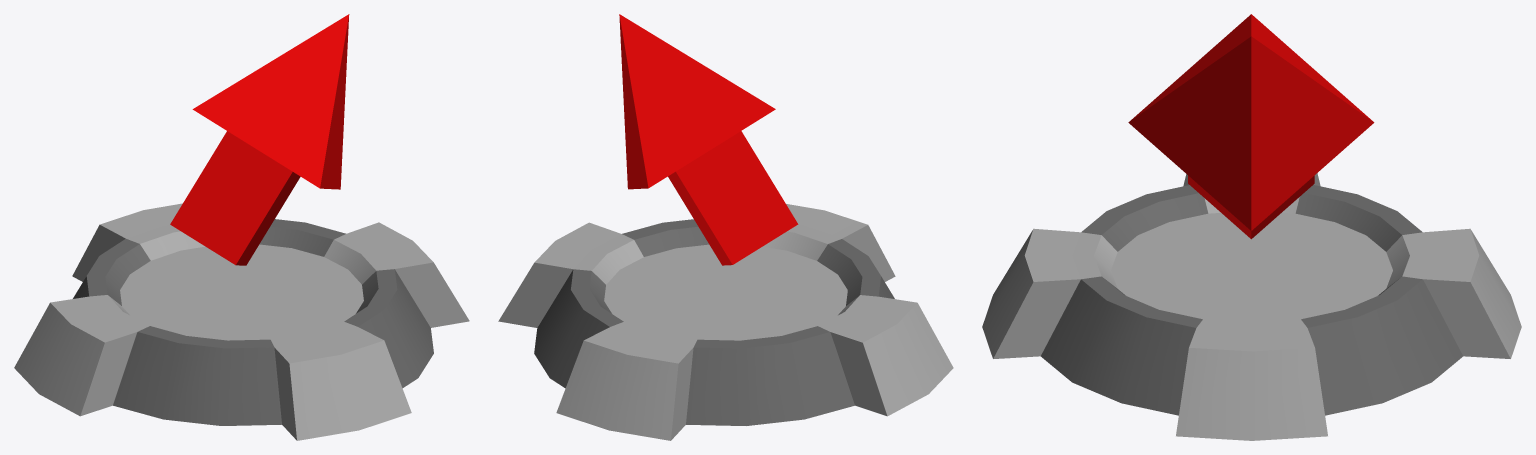
File: boost.fbx
3 views of the same model, side by side, from view 1: azimuth 30°, elevation 25°; view 2: azimuth 150°, elevation 25°; view 3: azimuth 270°, elevation 25° (orthographic). The views are drawn at different scales.
Parts seen in each view (by area): view 1: pad3, boost; view 2: pad3, boost; view 3: pad3, boost.
Boxes of the visible parts, left/top/right/bottom form: pad3: left=14, top=203, right=469, bottom=440; boost: left=170, top=14, right=349, bottom=265; pad3: left=498, top=204, right=953, bottom=440; boost: left=619, top=14, right=798, bottom=265; pad3: left=982, top=173, right=1521, bottom=440; boost: left=1128, top=14, right=1374, bottom=239.
Size of the model in its own units: 4.12 by 2.95 by 4.12.
